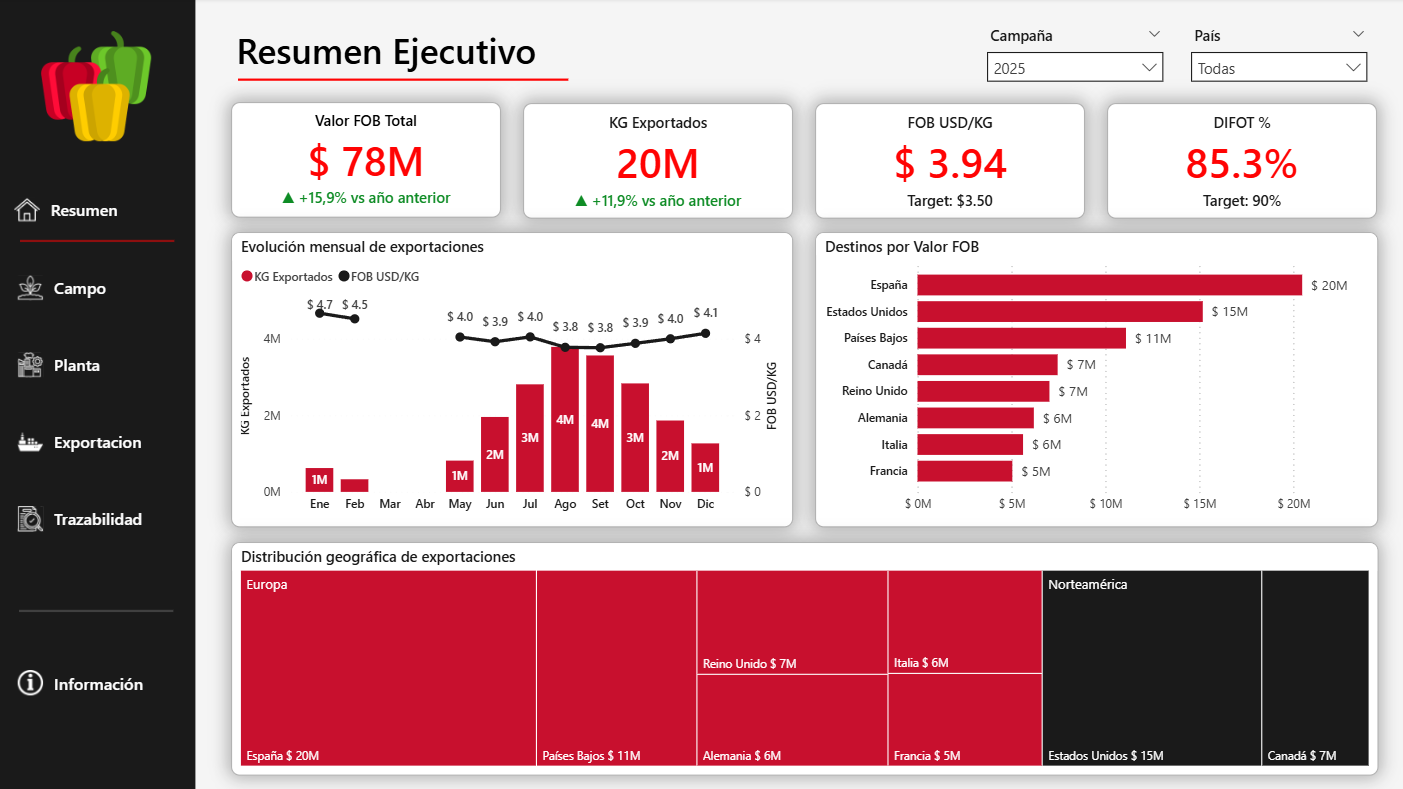

This screenshot's page, from the dashboard's own definition file:
{"tool":"powerbi","page":{"name":"Resumen","canvas":[1280,720],"ordinal":0},"visuals":[{"type":"shape","box":[0,0,180.4,720],"z":0},{"type":"cardVisual","fields":{"Data":["_Medidas.Valor FOB USD Texto"]},"box":[212.2,94.5,245.3,104.6],"z":1000},{"type":"cardVisual","fields":{"Data":["_Medidas.KG Exportados Texto"]},"box":[477.1,95,245,105],"z":2000},{"type":"cardVisual","fields":{"Data":["FactDespacho.FOB USD por Kg"]},"box":[742.1,95,245,105],"z":3000},{"type":"cardVisual","fields":{"Data":["FactDespacho.DIFOT %"]},"box":[1007.1,95,245,105],"z":4000},{"type":"textbox","box":[212.1,20,380,55],"z":5000},{"type":"shape","box":[218.2,68.4,299.6,12.1],"z":6000},{"type":"slicer","fields":{"Values":["DimDestino.Pais"]},"box":[1072.9,20.1,180,60.3],"z":7000},{"type":"slicer","fields":{"Values":["DimFecha.Campania"]},"box":[887.8,20.1,180,60.3],"z":8000},{"type":"lineClusteredColumnComboChart","title":"Evolución mensual de exportaciones","fields":{"Category":["DimFecha.NombreMesCorto"],"Y":["_Medidas.Kg Exportados M"],"Y2":["FactDespacho.FOB USD por Kg"]},"box":[211.9,212,509.9,268.4],"z":9000},{"type":"clusteredBarChart","title":"Destinos por Valor FOB","fields":{"Category":["DimDestino.Pais"],"Y":["_Medidas.Valor FOB USD M"]},"box":[742.4,212,510.8,268.4],"z":10000},{"type":"treemap","title":"Distribución geográfica de exportaciones","fields":{"Group":["DimDestino.Region"],"Details":["DimDestino.Pais"],"Values":["_Medidas.Valor FOB USD M"]},"box":[211.9,493.8,1041.4,211.9],"z":11000},{"type":"actionButton","box":[12,170,155,44],"z":12000},{"type":"shape","box":[20.6,213.7,140,12.6],"z":13000},{"type":"actionButton","box":[12,240,155,44],"z":14000},{"type":"actionButton","box":[12,310,155,44],"z":15000},{"type":"actionButton","box":[12,380,155,44],"z":16000},{"type":"actionButton","box":[12,450,155,44],"z":17000},{"type":"image","box":[39.5,29.6,99.7,99.7],"z":18000},{"type":"actionButton","box":[12,600,154.4,44],"z":19000},{"type":"shape","box":[19.8,550,140,12.6],"z":20000}]}

Visuals, with their boxes on the page's 1280x720 design canvas (x1, y1, x2, y2). These are canvas units, not pixel positions in the 1403x789 screenshot, which may show the page scaled, cropped or inside an application window:
shape: 0:0:180:720
cardVisual - _Medidas.Valor FOB USD Texto: 212:94:458:199
cardVisual - _Medidas.KG Exportados Texto: 477:95:722:200
cardVisual - FactDespacho.FOB USD por Kg: 742:95:987:200
cardVisual - FactDespacho.DIFOT %: 1007:95:1252:200
textbox: 212:20:592:75
shape: 218:68:518:80
slicer - DimDestino.Pais: 1073:20:1253:80
slicer - DimFecha.Campania: 888:20:1068:80
"Evolución mensual de exportaciones" lineClusteredColumnComboChart: 212:212:722:480
"Destinos por Valor FOB" clusteredBarChart: 742:212:1253:480
"Distribución geográfica de exportaciones" treemap: 212:494:1253:706
actionButton: 12:170:167:214
shape: 21:214:161:226
actionButton: 12:240:167:284
actionButton: 12:310:167:354
actionButton: 12:380:167:424
actionButton: 12:450:167:494
image: 40:30:139:129
actionButton: 12:600:166:644
shape: 20:550:160:563
